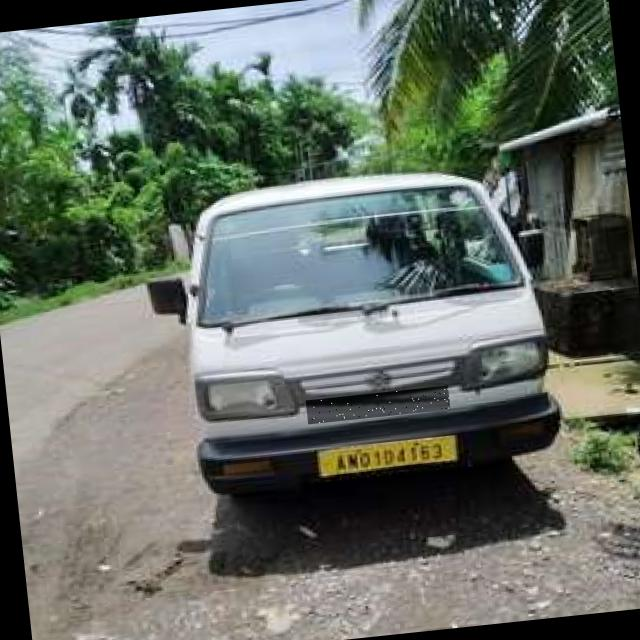Plate: (306, 386, 451, 425)
